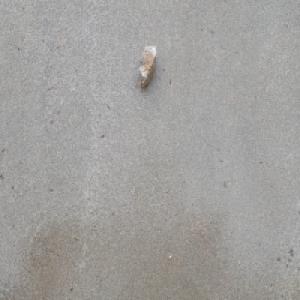Rock: (137, 43, 157, 89)
